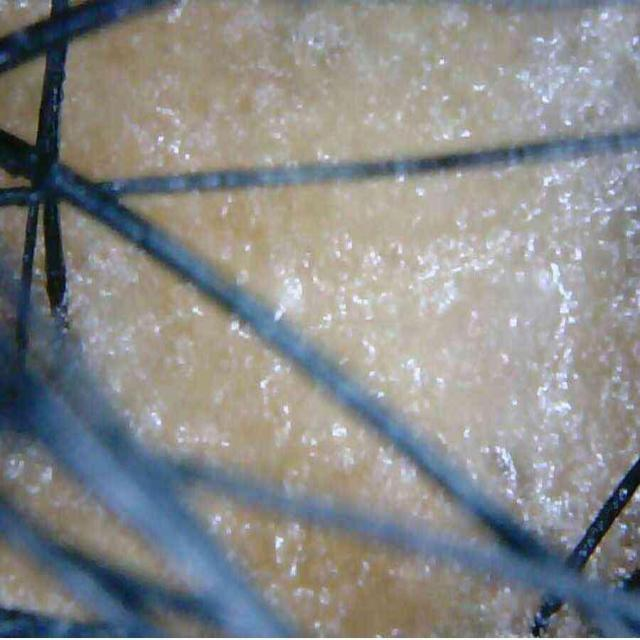o: (126, 152, 640, 550), (61, 204, 490, 541), (61, 3, 640, 177), (186, 486, 538, 636), (0, 434, 175, 581)
